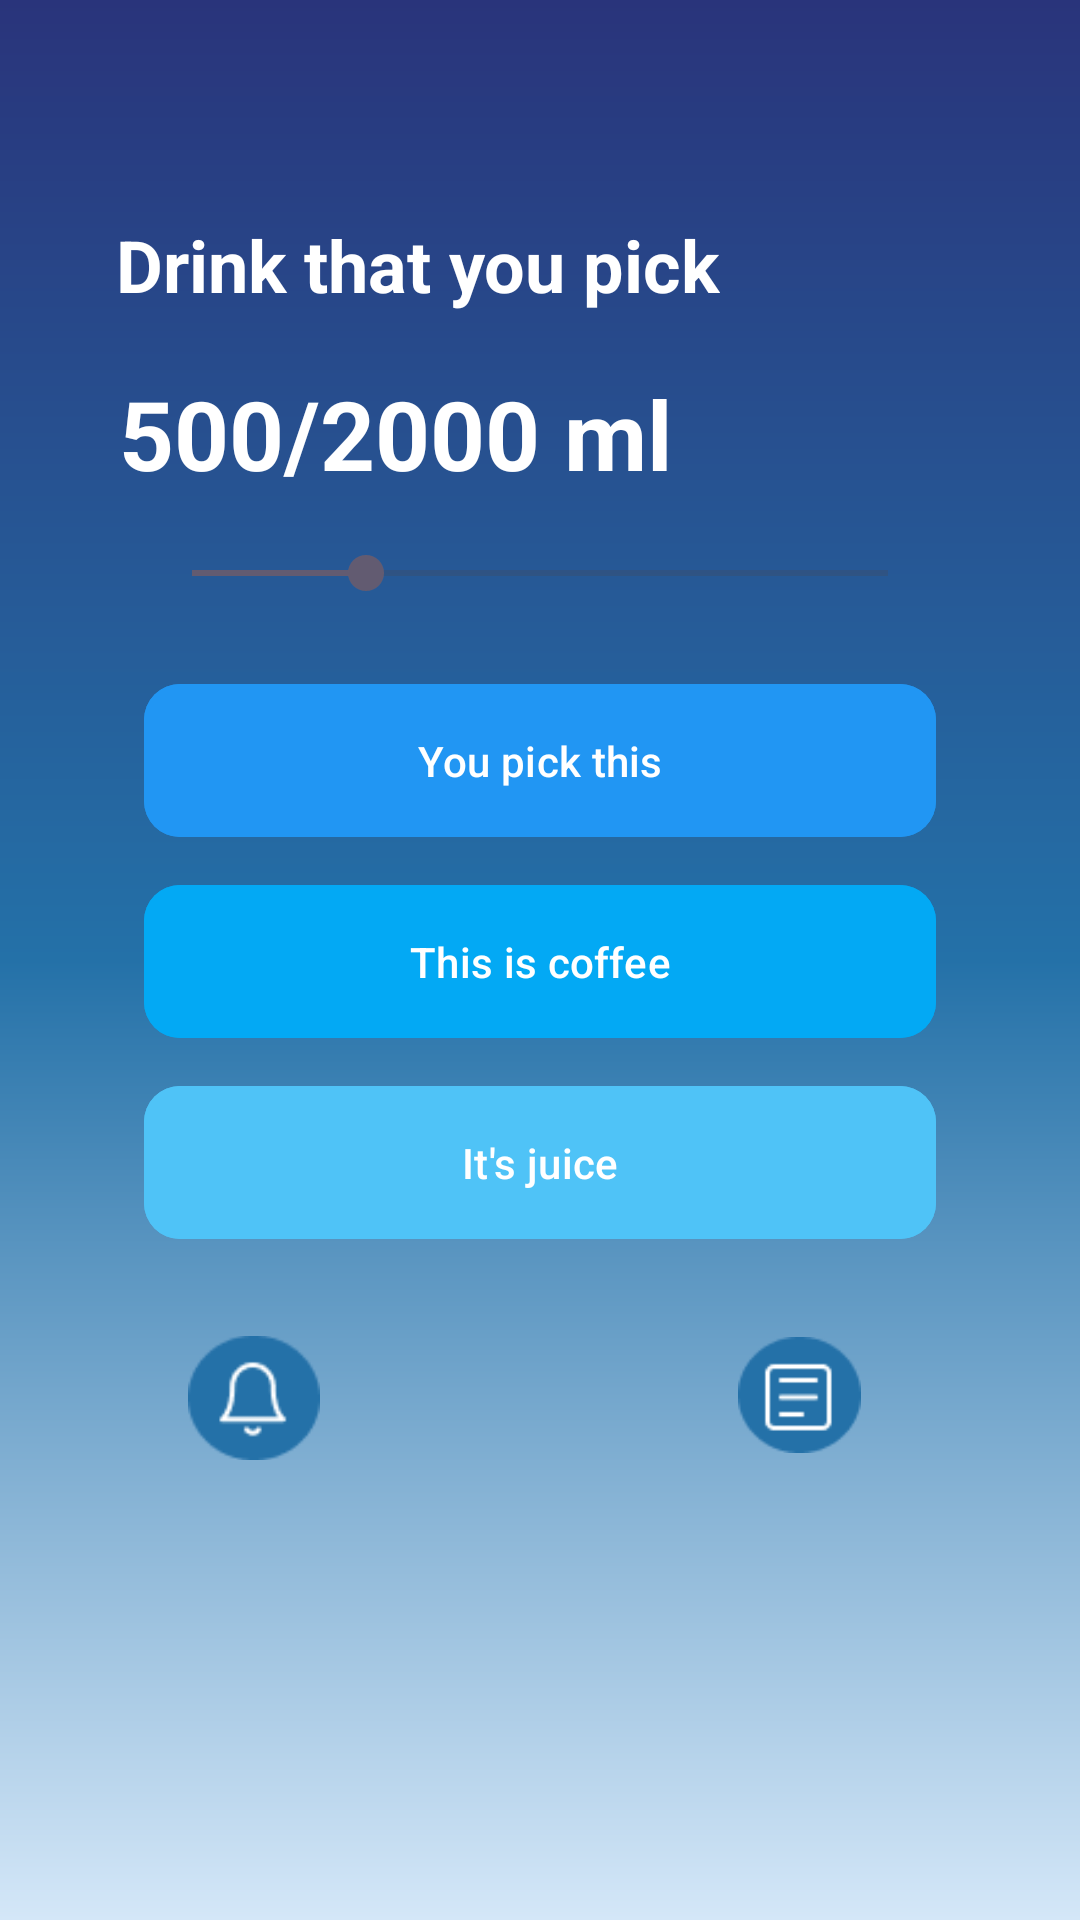

Screen size 1080w x 1920h. Icon name, then its center in pixels as point (x, y):
list: point (799, 1395)
notif: point (254, 1398)
